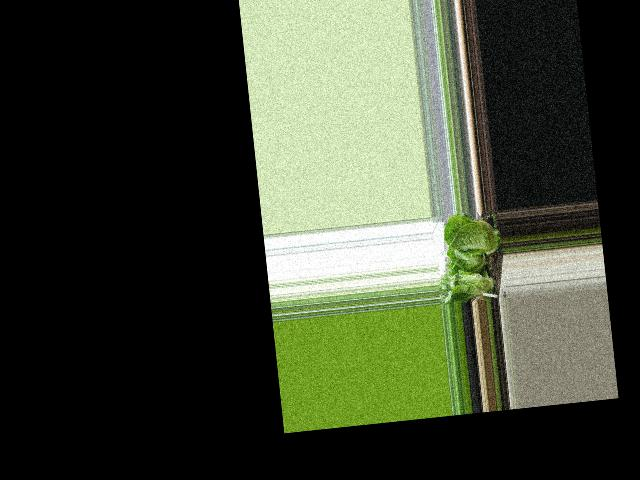lettuce: (442, 265, 501, 301)
